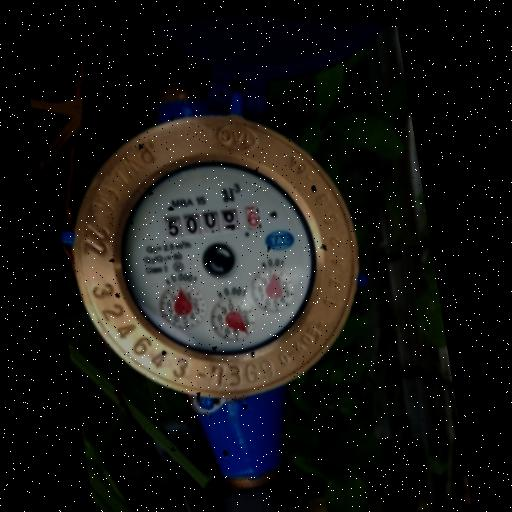0: (183, 213, 202, 237), (202, 211, 220, 235)
5: (164, 216, 184, 239)
6: (222, 208, 241, 233), (244, 204, 262, 230)
border_water_meter_number: (161, 197, 264, 248)
